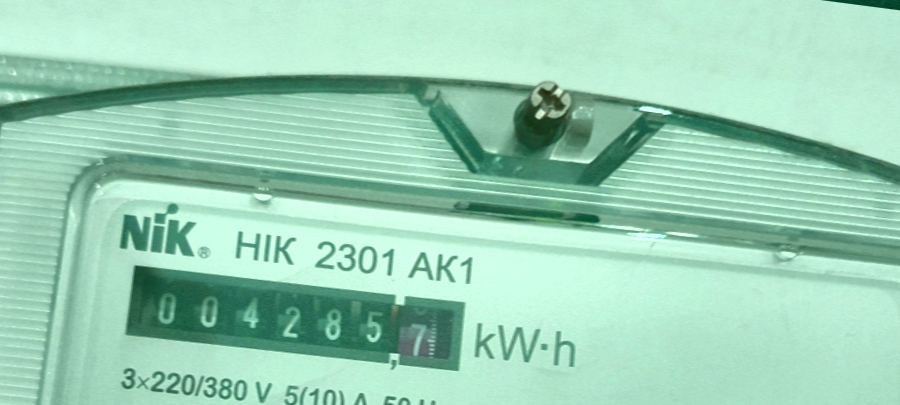0: (196, 292, 223, 332), (154, 289, 180, 327)
2: (280, 303, 303, 341)
4: (241, 294, 262, 331)
5: (361, 308, 386, 346)
7: (405, 321, 429, 359)
8: (320, 305, 346, 345)
screen: (109, 248, 484, 393)
